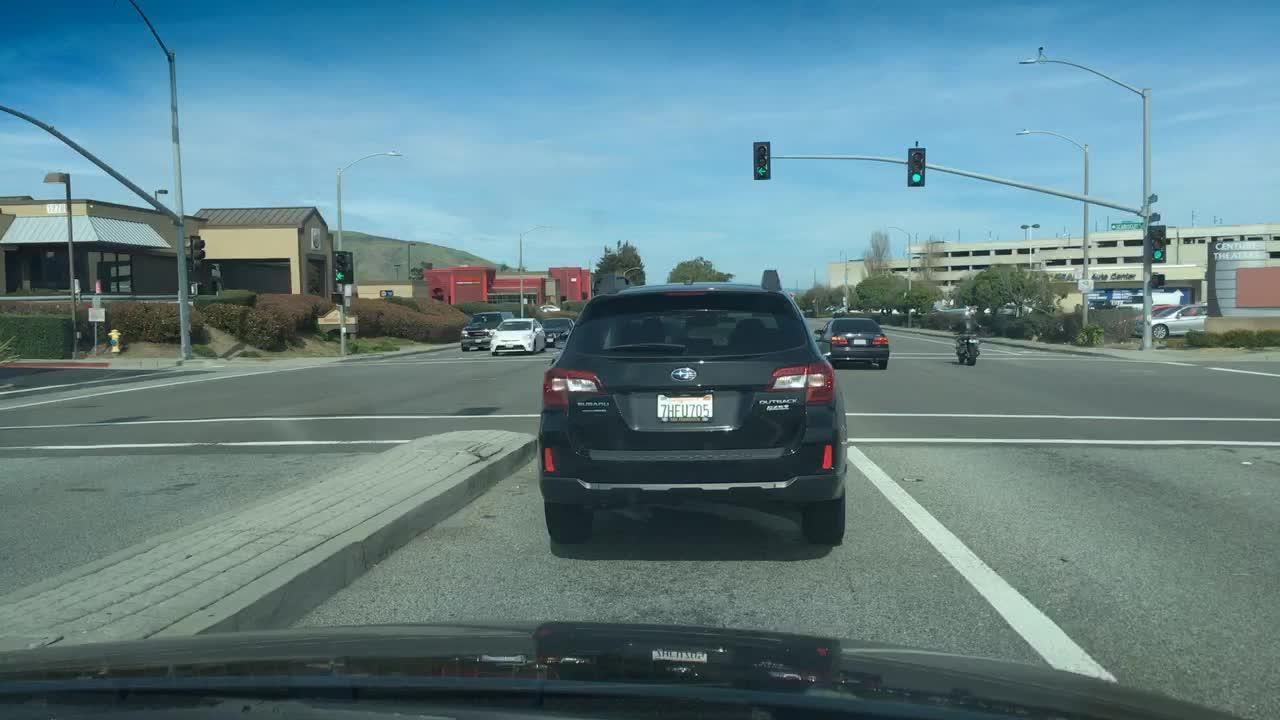subaru: (667, 364, 699, 384)
